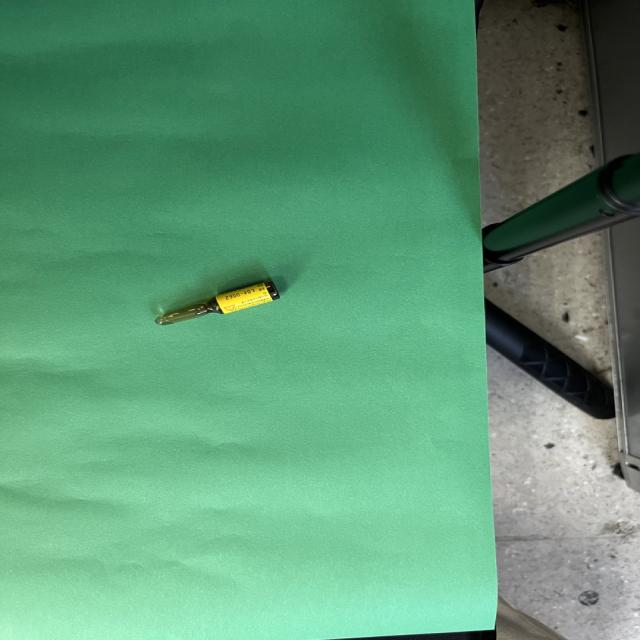Ampoules: (155, 282, 279, 326)
